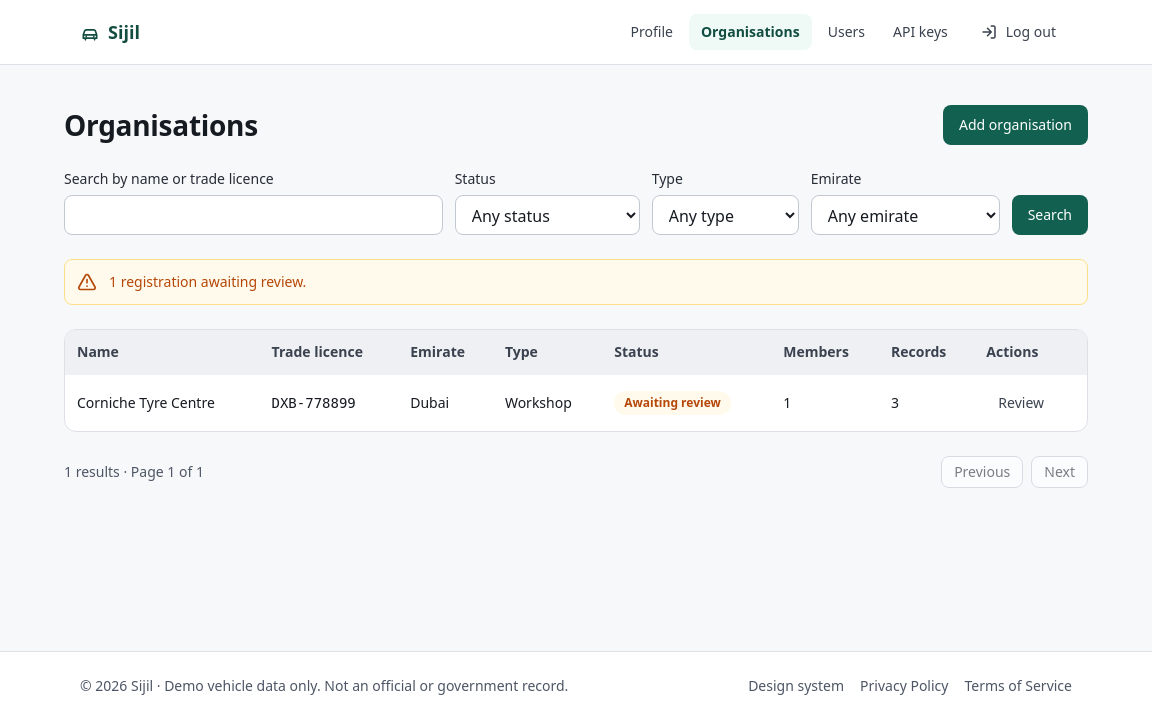
Scenario: admin: organisations › approves a pending registration from the review queue
Expected: the text "1 registration awaiting review." is shown, [109,272,306,291]
Click the button with aria-label "Review Corniche Tyre Centre" at (1021, 403), box [986,387,1056,419]
(page scrolled)
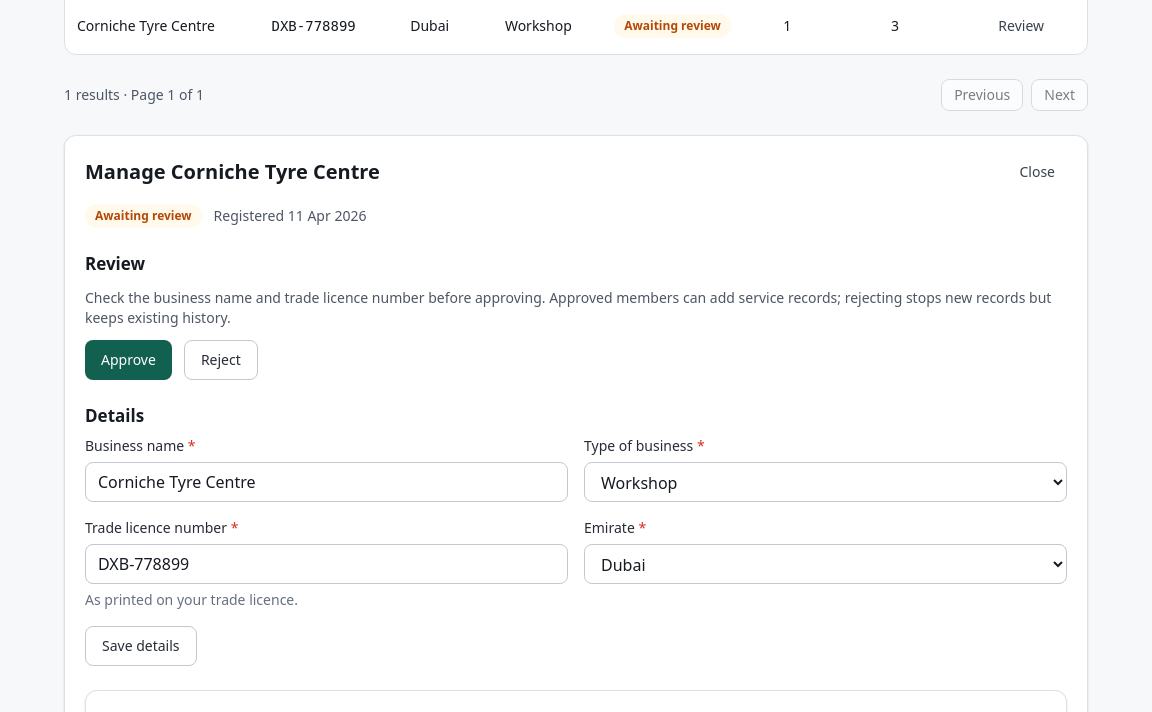
Click the button "Approve" at (128, 360), box [85,340,172,380]
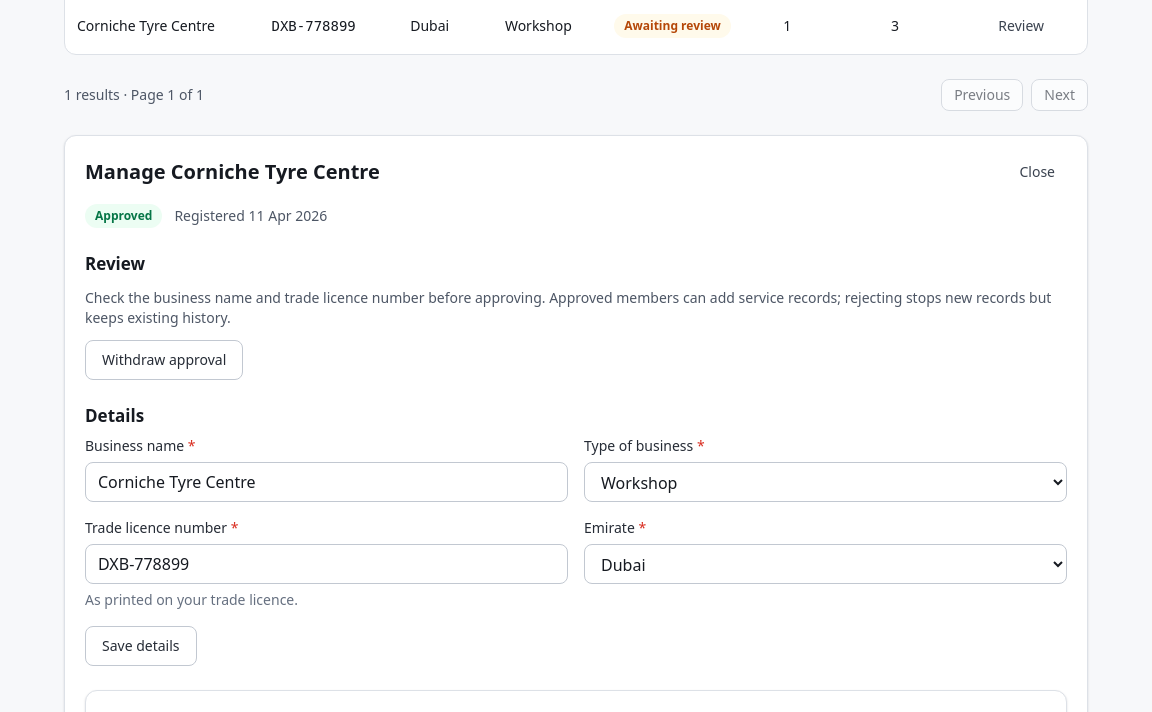
Expected: the button "Withdraw approval" is shown, [85,340,243,380]
